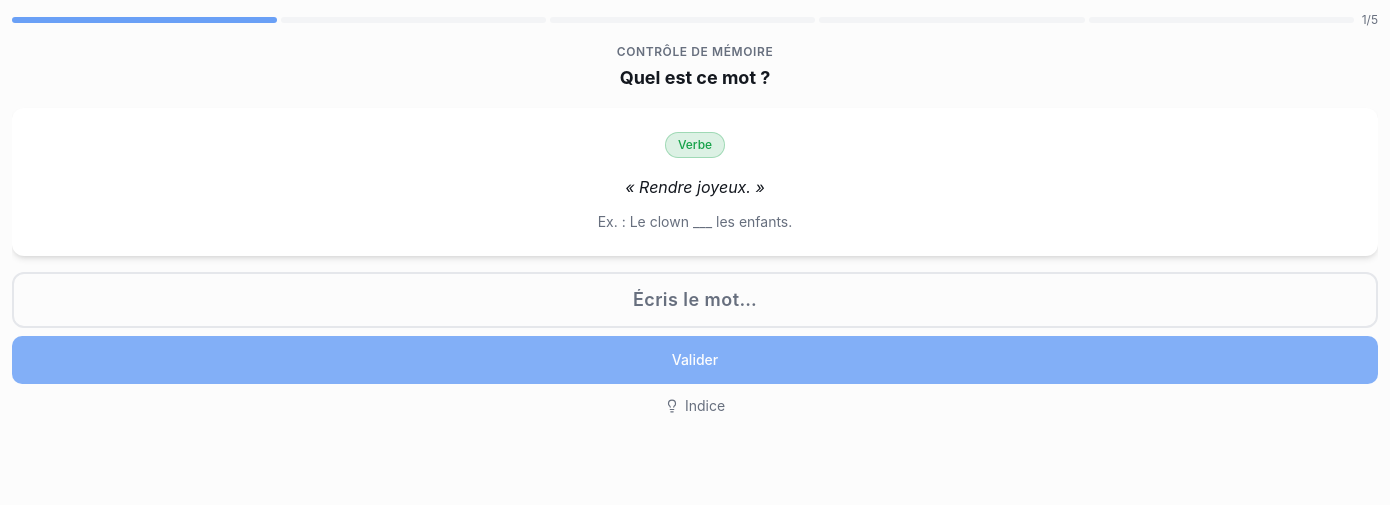
Test: ActiveRecall — contrôle de mémoire › affiche le libellé Contrôle et le numéro du contrôle (1/2 puis 2/2)
The width and height of the screenshot is (1390, 505).
Earlier steps of the test are not shown.
Type "x" into the field with placeholder "Écris le mot…" at coordinates (695, 300), box [12,272,1378,328]
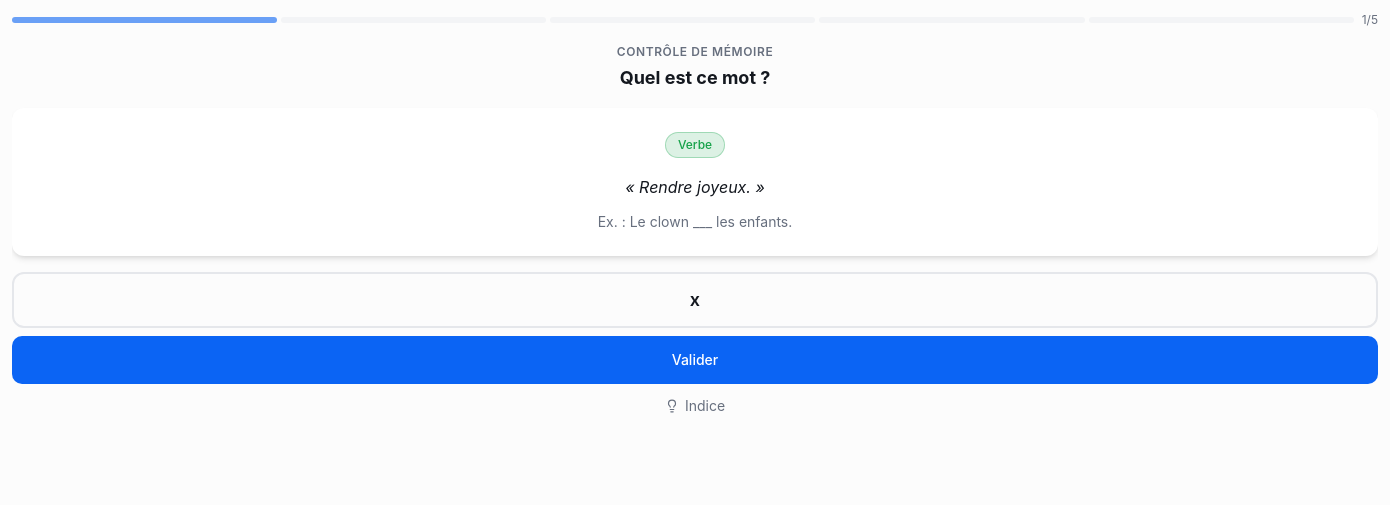
Click the button "Valider" at coordinates (695, 360), box [12,336,1378,384]
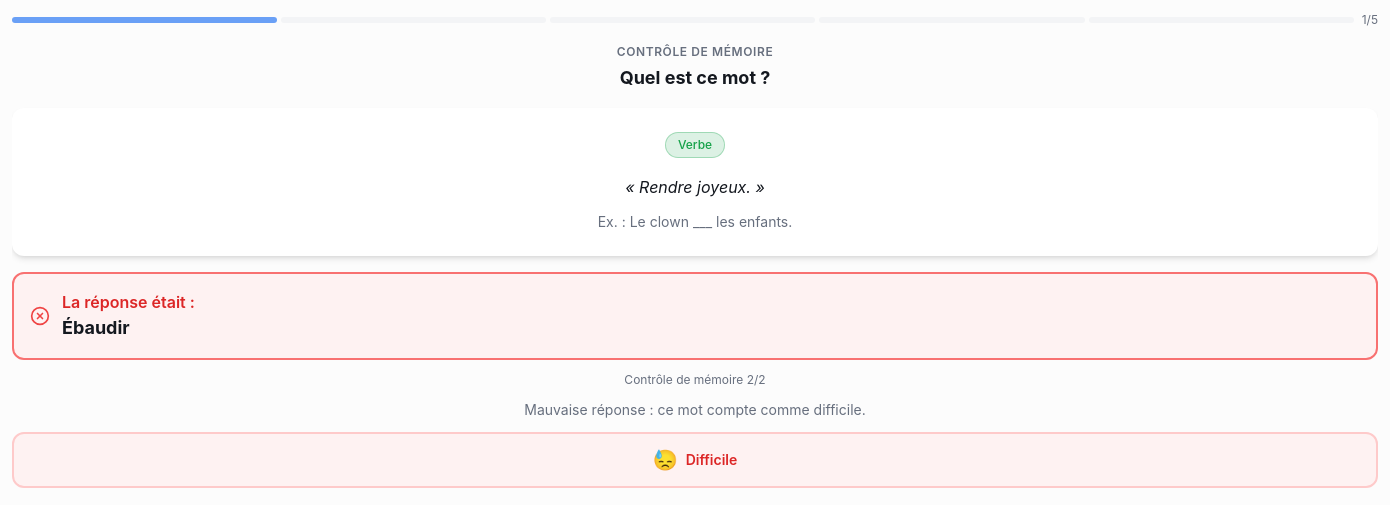
Now the text with test id "mastery-progress" reads "Contrôle de mémoire 2/2", box [624,372,766,387]
